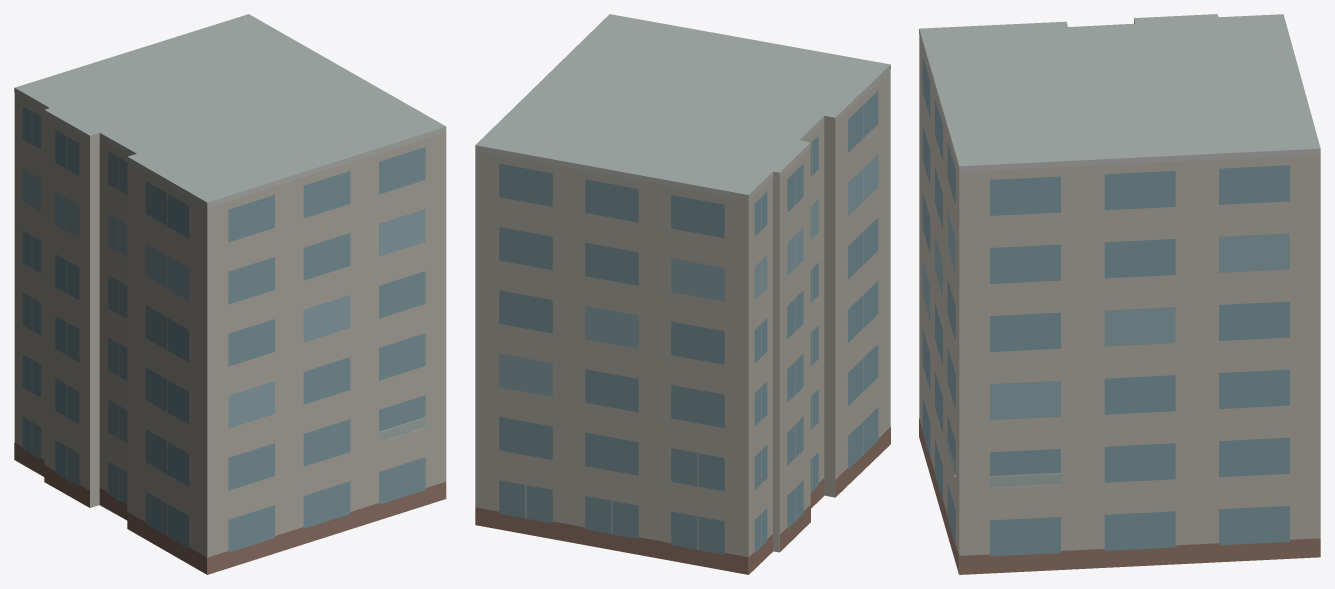
The model's file is survey-upis-32580330.glb.
3 renders of one model, left to right at view 1: azimuth 30°, elevation 25°; view 2: azimuth 150°, elevation 25°; view 3: azimuth 270°, elevation 25°, orthographic. The views are drawn at different scales.
Parts seen in each view (by area): view 1: survey-upis-32580330.tmp; view 2: survey-upis-32580330.tmp; view 3: survey-upis-32580330.tmp.
Part boxes in pixels (x1,y1,x2,y2): survey-upis-32580330.tmp: (14,14,446,574); survey-upis-32580330.tmp: (475,14,890,574); survey-upis-32580330.tmp: (919,14,1320,574).
Size of the model in its own units: 13.84 by 17.3 by 15.42.
